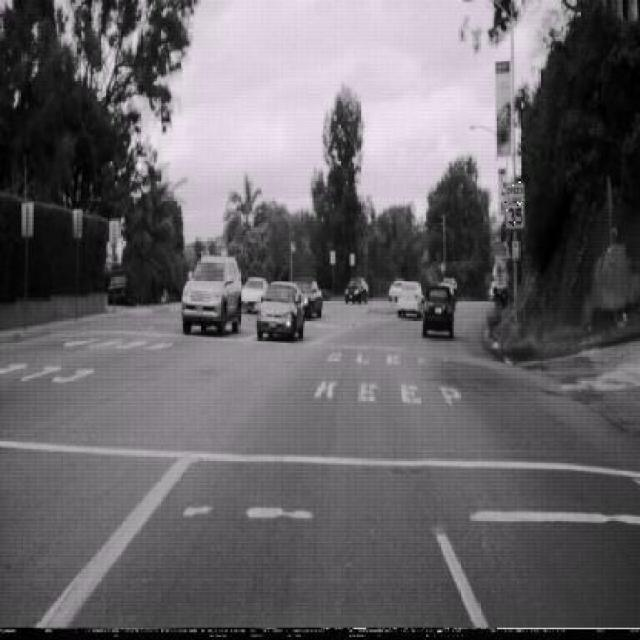speedLimit35: (504, 180, 526, 229)
